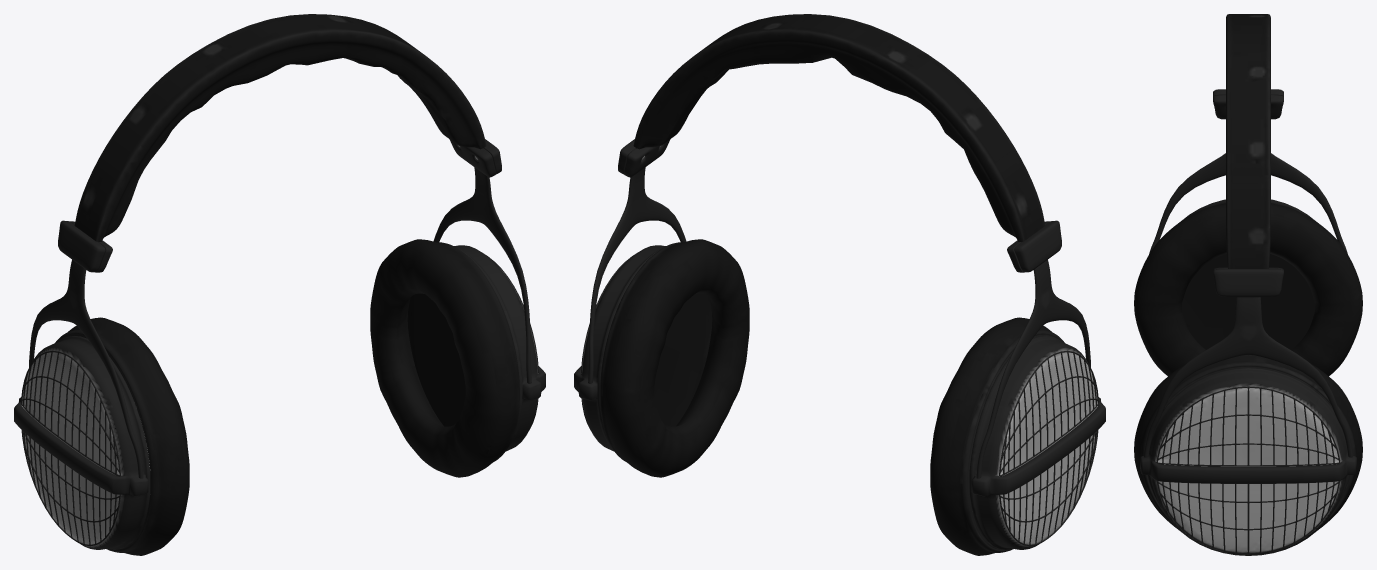
File: hush-studio-open.glb
3 views of the same model, side by side, from view 1: azimuth 30°, elevation 25°; view 2: azimuth 150°, elevation 25°; view 3: azimuth 270°, elevation 25° (orthographic). The views are drawn at different scales.
Parts seen in each view (by area): view 1: Wireframe.Detail_Headphones_0; view 2: Wireframe.Detail_Headphones_0; view 3: Wireframe.Detail_Headphones_0.
Boxes of the visible parts, bbox=[...] form: Wireframe.Detail_Headphones_0: bbox=[14, 14, 545, 555]; Wireframe.Detail_Headphones_0: bbox=[574, 14, 1105, 555]; Wireframe.Detail_Headphones_0: bbox=[1134, 14, 1362, 555].
Bounding box in the file's own units: 5.18 × 5.32 × 2.49.
1 material, 1 textured.
